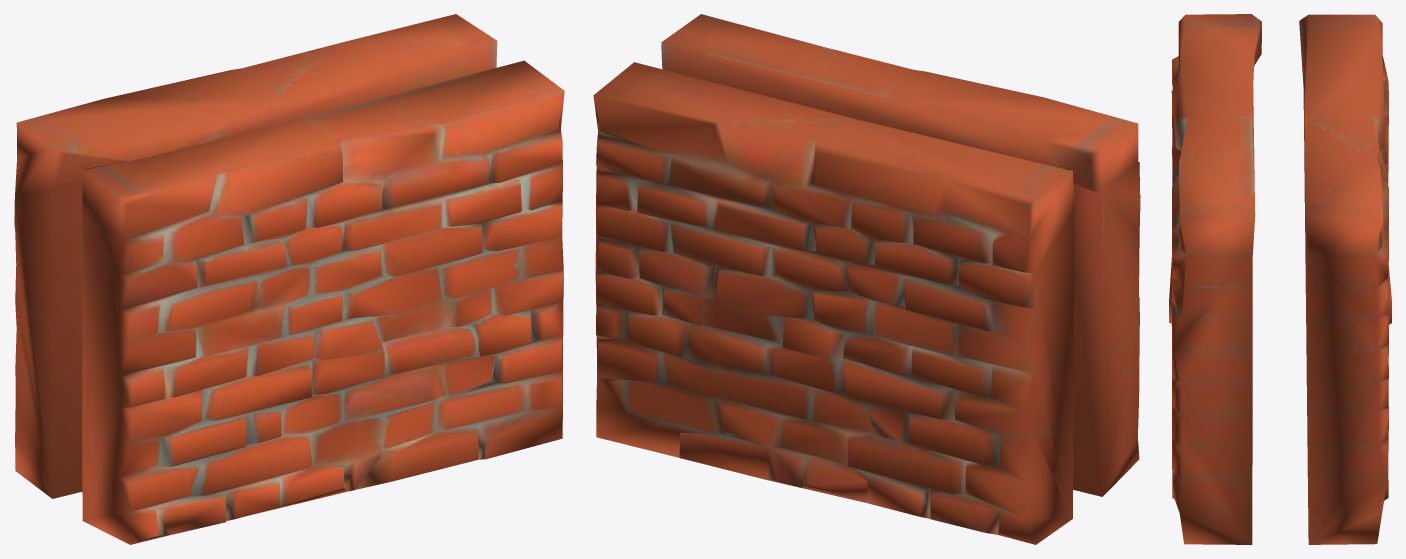
The model's file is block_brick.glb.
3 renders of one model, left to right at view 1: azimuth 30°, elevation 25°; view 2: azimuth 150°, elevation 25°; view 3: azimuth 270°, elevation 25°, orthographic. The views are drawn at different scales.
Bounding box in the file's own units: 1.9 × 1.44 × 0.8825.
Materials: 1 (1 with a texture image).
